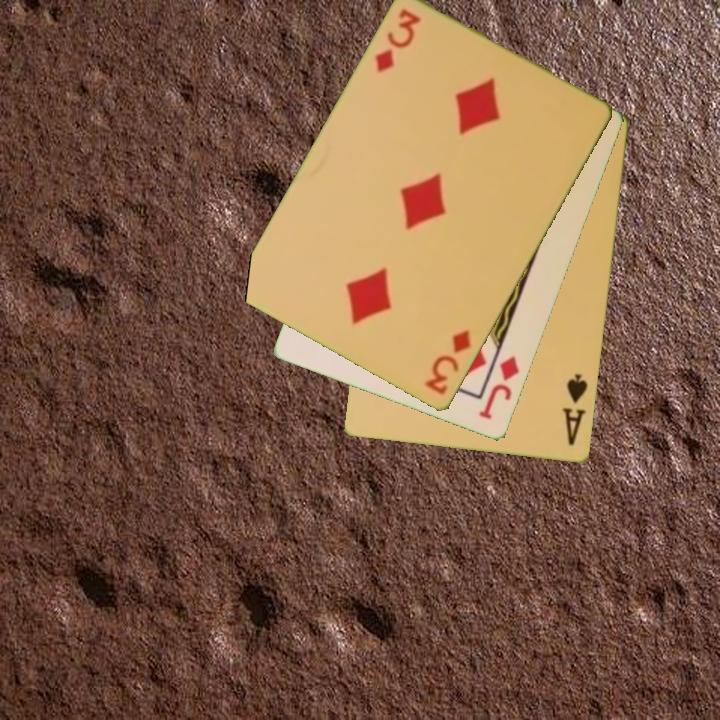3d: (421, 326, 474, 398), (371, 5, 424, 77)
As: (559, 370, 591, 449)
Jd: (475, 353, 523, 423)
